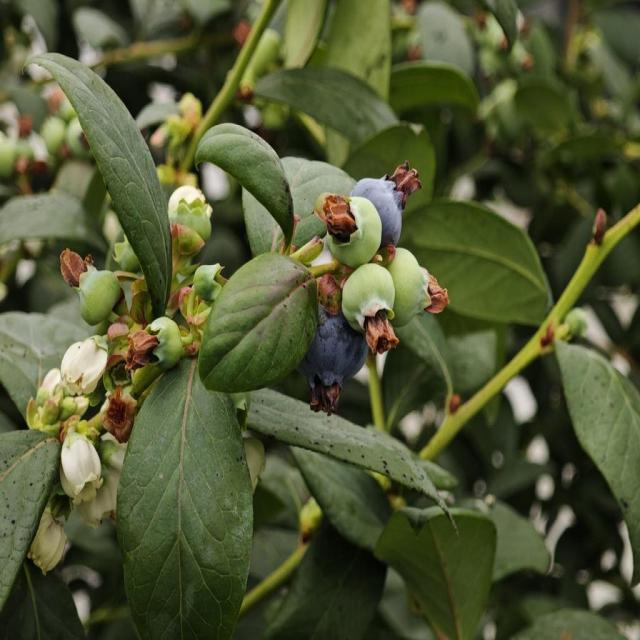RipeBlueBerry: (306, 311, 368, 393), (353, 176, 407, 247)
UnripeBlueBerry: (319, 192, 382, 268), (341, 262, 398, 335)
